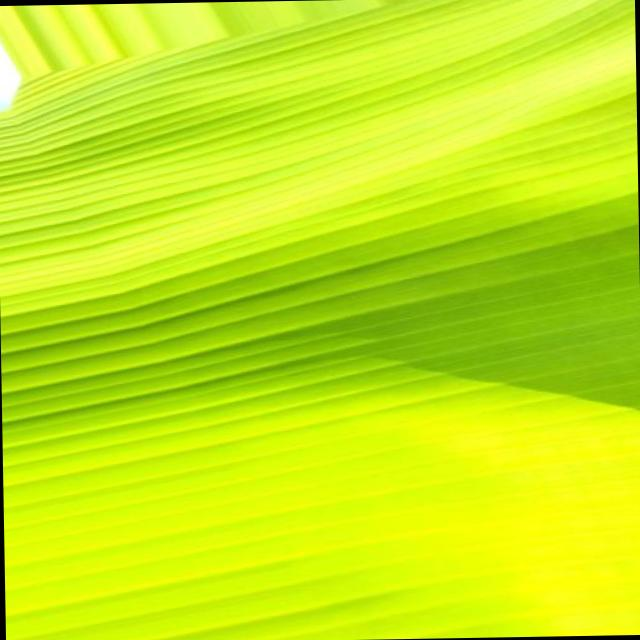Banana_Healthy: (0, 0, 618, 631)
